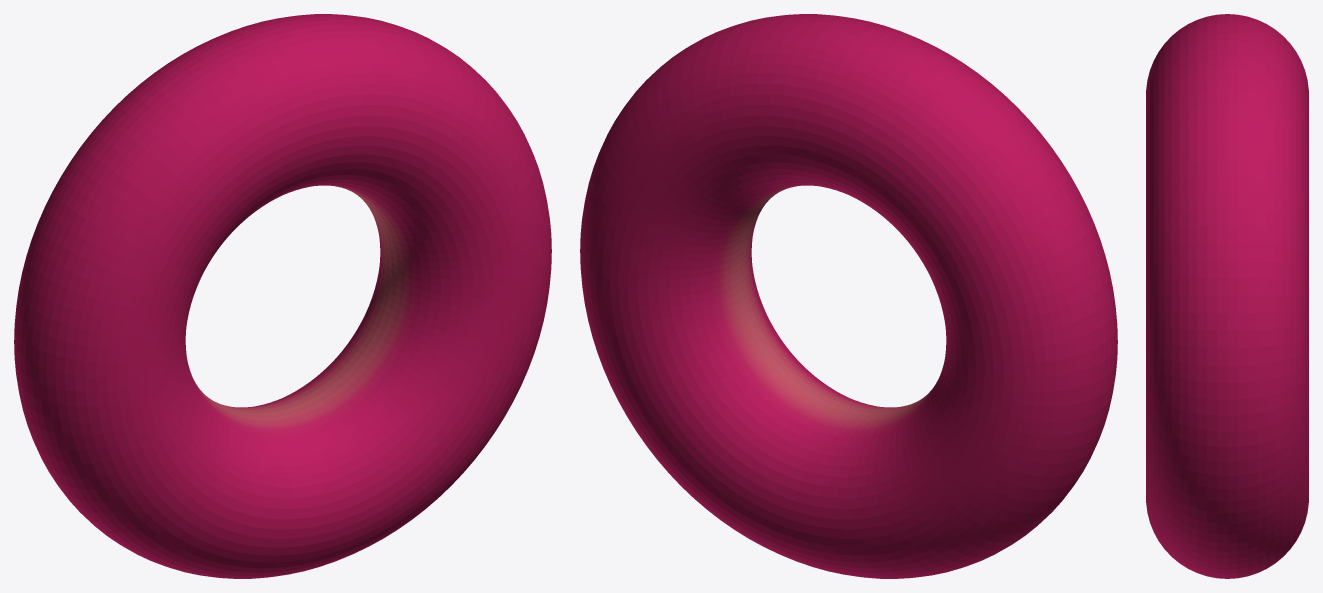
3 renders of one model, left to right at view 1: azimuth 30°, elevation 25°; view 2: azimuth 150°, elevation 25°; view 3: azimuth 270°, elevation 25°, orthographic. The views are drawn at different scales.
Parts seen in each view (by area): view 1: world; view 2: world; view 3: world.
Part boxes in pixels (box(x1,y1,x2,y2)): world: box(14, 14, 551, 578); world: box(580, 14, 1117, 578); world: box(1146, 14, 1308, 578).
Size of the model in its own units: 31.87 by 31.87 by 9.18.
